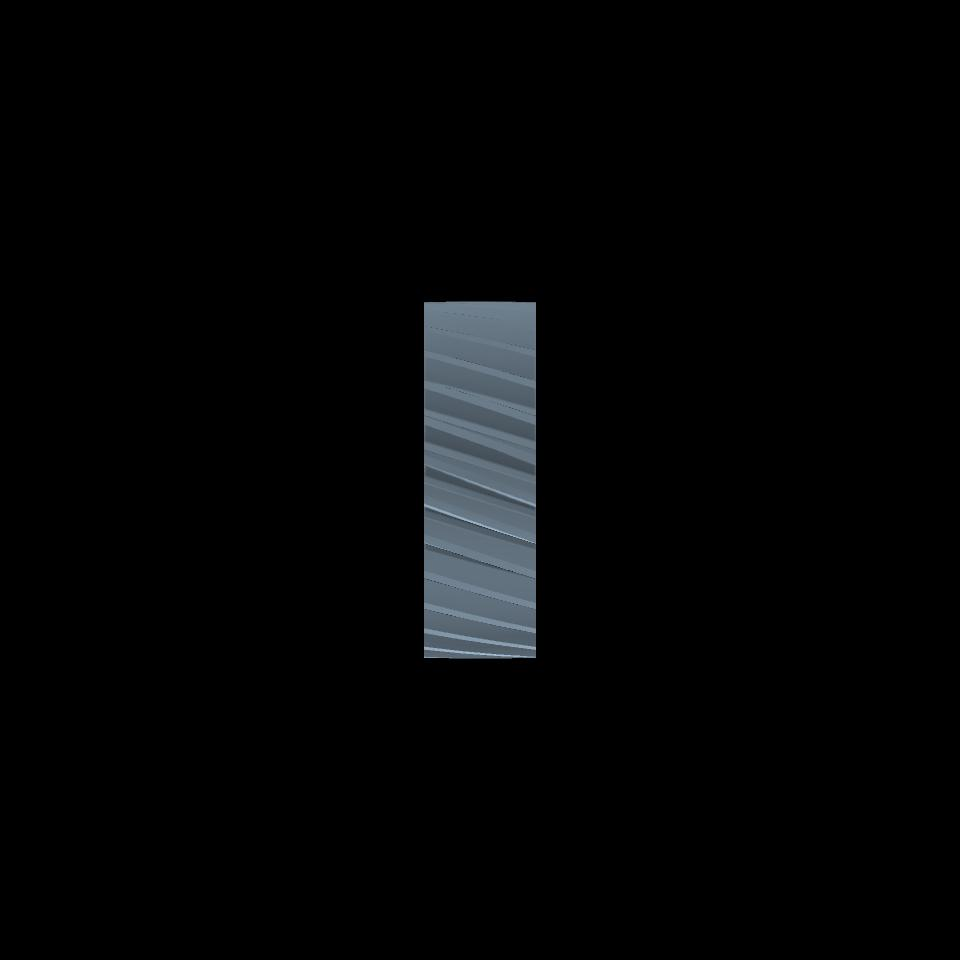Helical: (424, 300, 535, 656)
